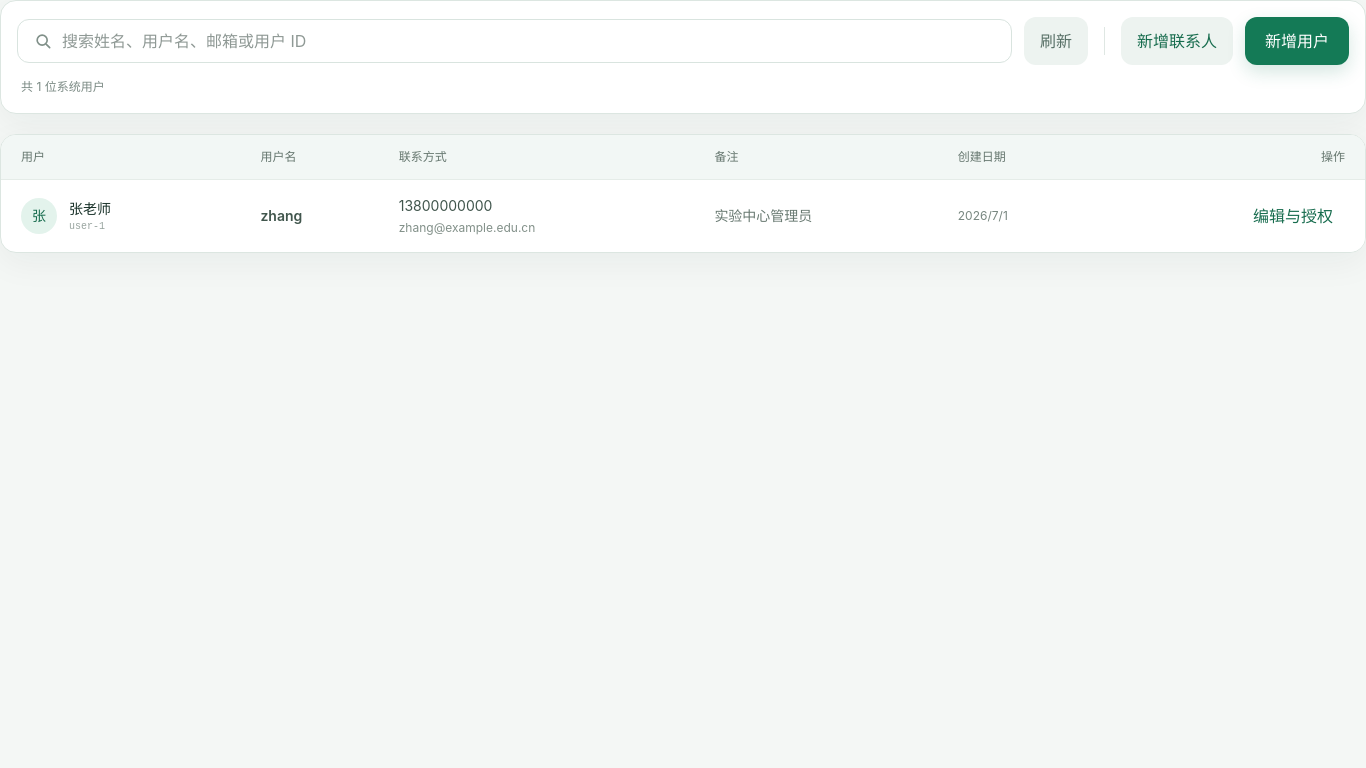
Test: AccountManagement › creates a contact from the search toolbar
Check: the text "张老师" is shown, box x1=69 y1=198 x2=111 y2=218
Step 1. Click the button "新增联系人" → (1177, 41), box x1=1121 y1=17 x2=1233 y2=65
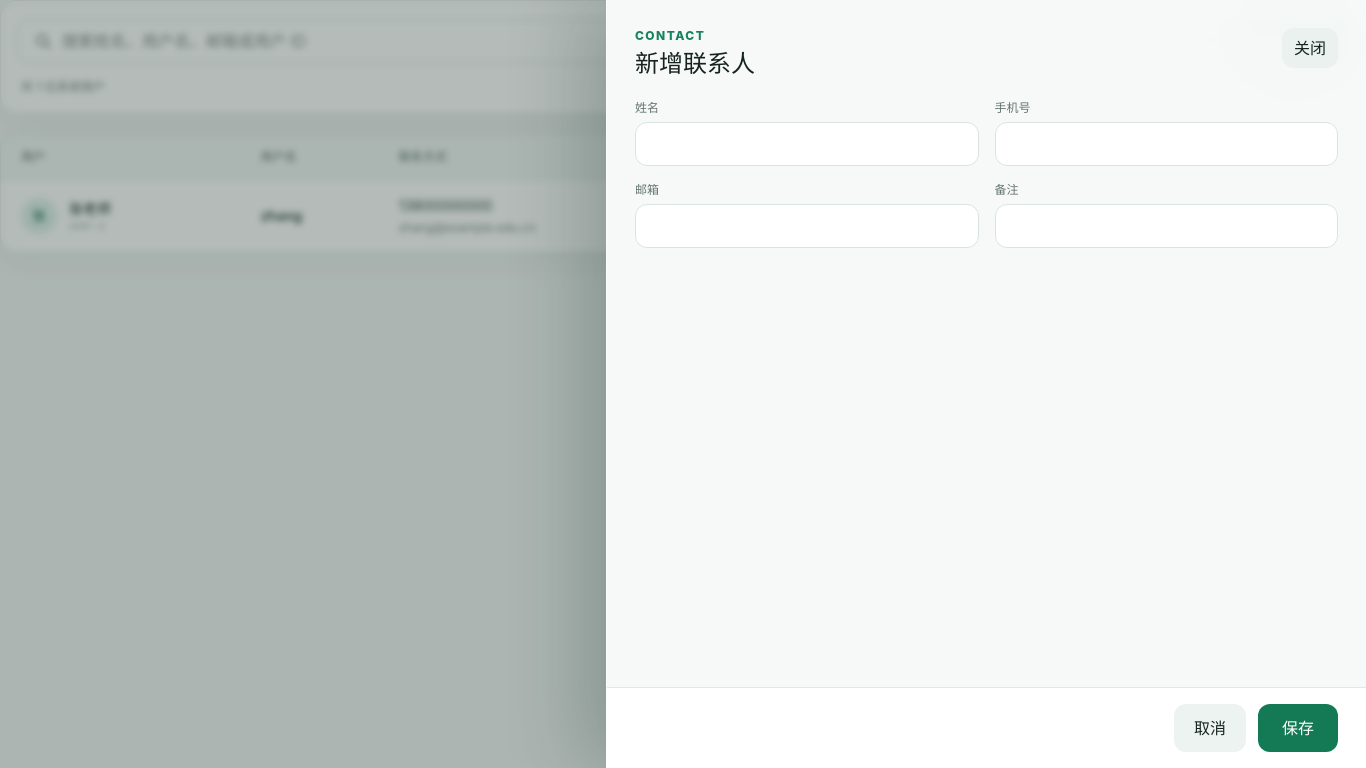
Step 2. Type "李老师" into the field labelled "姓名" → (807, 144), box x1=635 y1=122 x2=978 y2=166
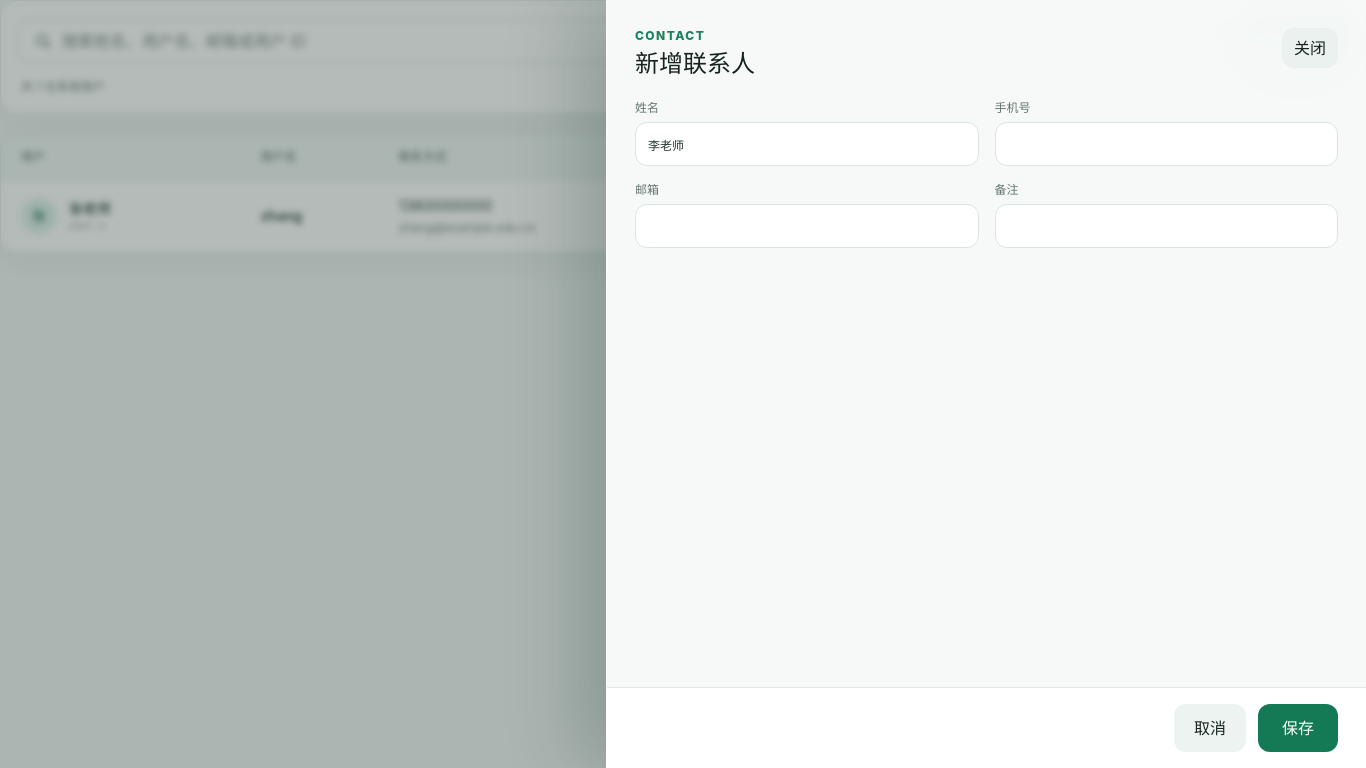
Step 3. Type "li@example.edu.cn" into the field labelled "邮箱" → (807, 226), box x1=635 y1=204 x2=978 y2=248
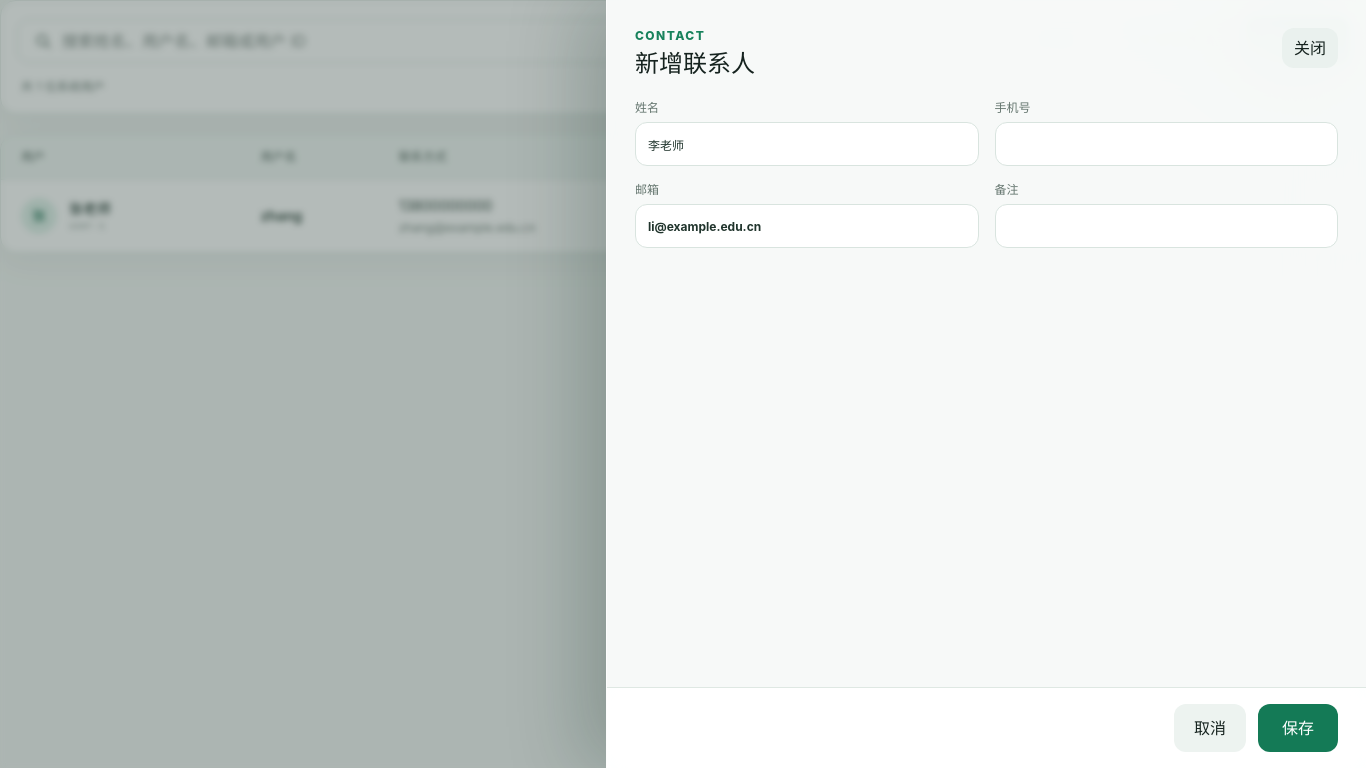
Step 4. Click the button "保存" → (1298, 728), box x1=1258 y1=704 x2=1338 y2=752
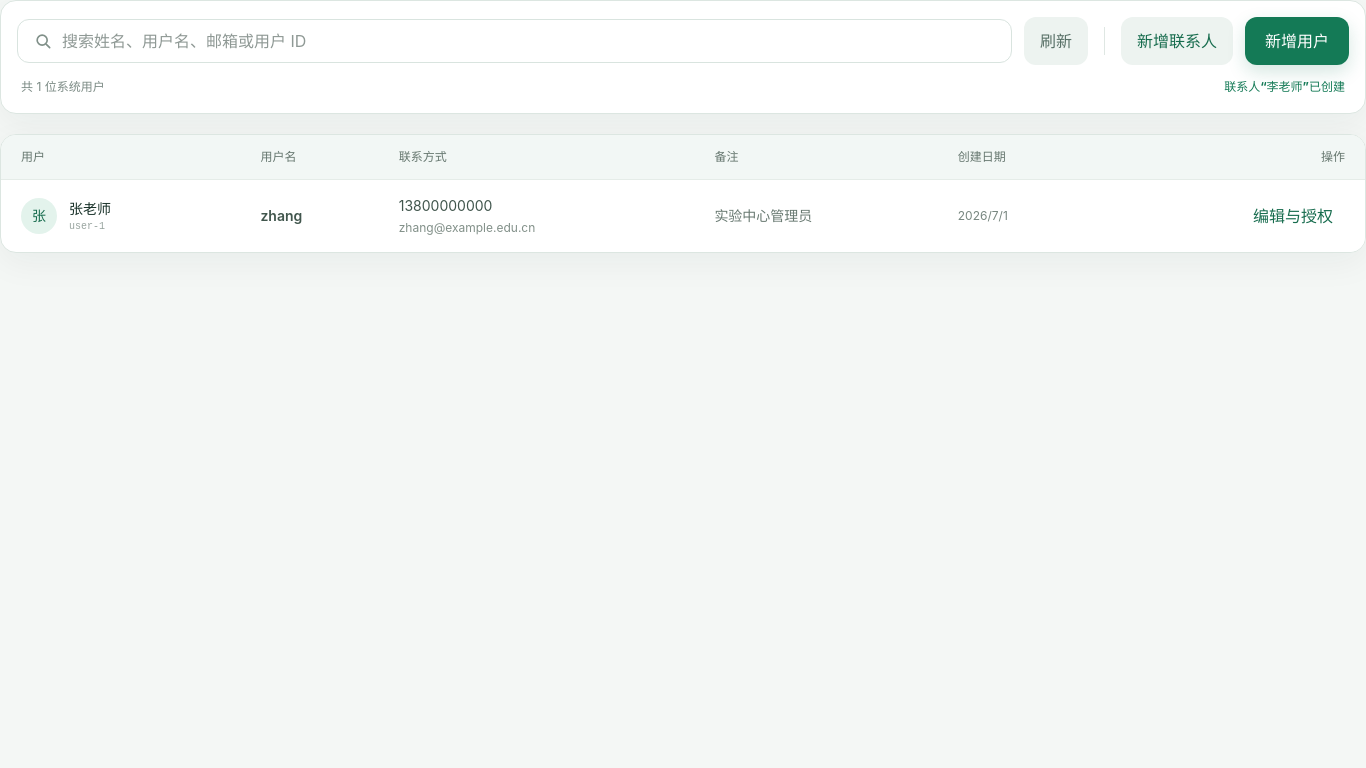
Check: the text "联系人“李老师”已创建" is shown, box x1=1224 y1=79 x2=1345 y2=95
